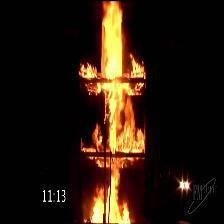fire: (77, 2, 148, 222)
